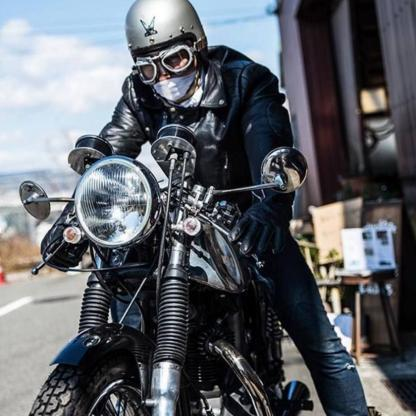helmet: (125, 0, 208, 100)
